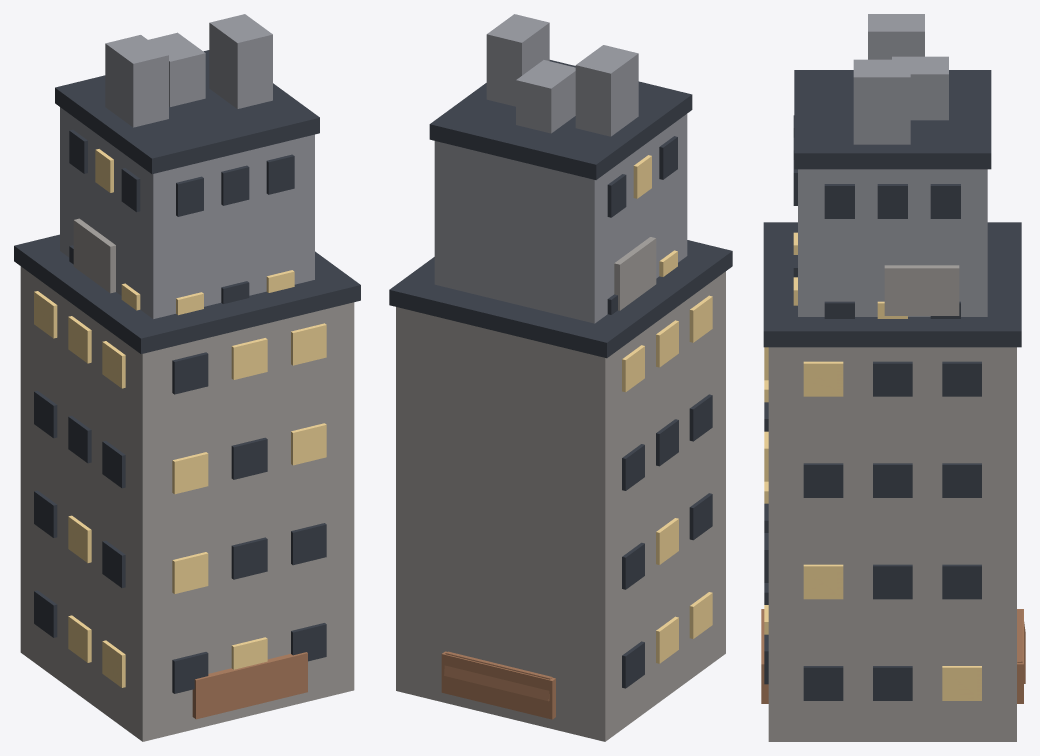
Rendered from decor_city.glb.
3 renders of one model, left to right at view 1: azimuth 30°, elevation 25°; view 2: azimuth 150°, elevation 25°; view 3: azimuth 270°, elevation 25°, orthographic. The views are drawn at different scales.
Parts seen in each view (by area): view 1: Bina1, Bina2, Enkaz; view 2: Bina1, Bina2, Enkaz; view 3: Bina1, Bina2, Enkaz.
Boxes of the visible parts, <box> form: Bina1: <box>14,218,360,741</box>; Bina2: <box>55,14,319,318</box>; Enkaz: <box>192,652,307,719</box>; Bina1: <box>389,237,732,741</box>; Bina2: <box>429,14,692,323</box>; Enkaz: <box>441,651,555,719</box>; Bina1: <box>763,222,1021,741</box>; Bina2: <box>793,14,991,318</box>; Enkaz: <box>761,609,1025,703</box>.
Bounding box in the file's own units: 3.54 × 9.76 × 3.62.
